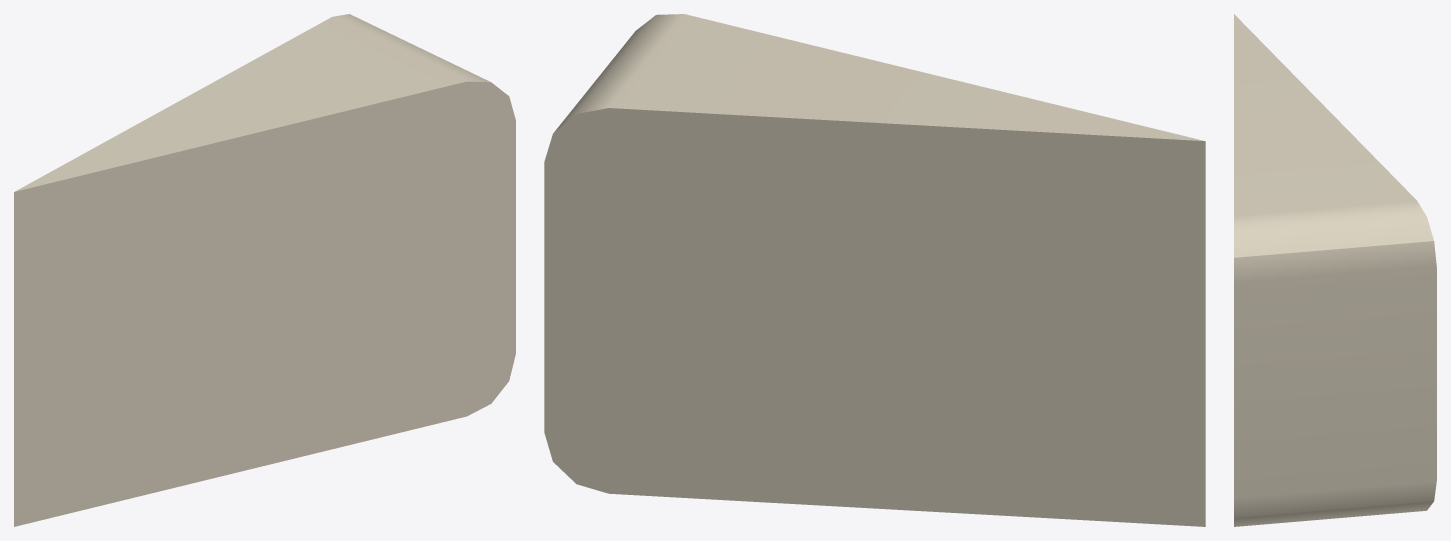
The model's file is Pandispanya_16P.fbx.
3 views of the same model, side by side, from view 1: azimuth 30°, elevation 25°; view 2: azimuth 150°, elevation 25°; view 3: azimuth 270°, elevation 25° (orthographic). The views are drawn at different scales.
Visible parts, largest first — view 1: pCylinder126; view 2: pCylinder126; view 3: pCylinder126.
Part boxes in pixels (x1,y1,x2,y2): pCylinder126: (14,14,515,526); pCylinder126: (544,14,1205,526); pCylinder126: (1234,14,1436,526).
Size of the model in its own units: 1 by 0.638 by 0.3827.
